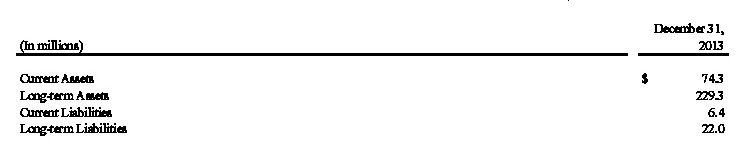table: (0, 0, 752, 154)
